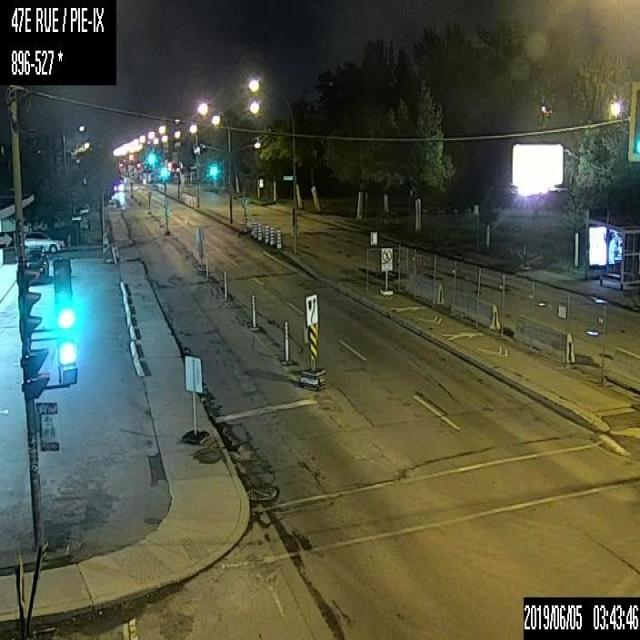construction: (283, 317, 289, 363), (251, 293, 255, 328), (223, 269, 226, 299), (257, 222, 261, 242), (253, 220, 257, 240), (276, 229, 280, 248), (250, 218, 254, 236), (270, 226, 274, 244), (264, 224, 268, 242), (205, 254, 208, 278), (242, 215, 246, 232)
vehicle: (16, 230, 71, 253), (15, 245, 47, 281)
